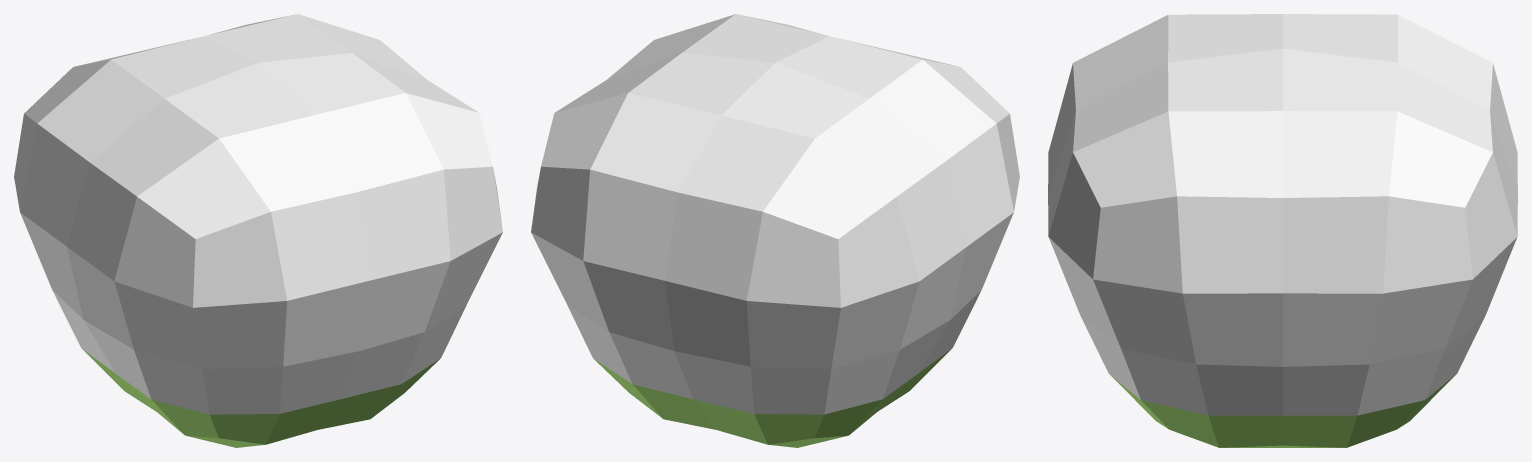
Rendered from Thuja_BushTree_s_Snow_07_LOD.fbx.
3 views of the same model, side by side, from view 1: azimuth 30°, elevation 25°; view 2: azimuth 150°, elevation 25°; view 3: azimuth 270°, elevation 25° (orthographic). The views are drawn at different scales.
Visible parts, largest first — view 1: Thuja_BushTree_s_Snow_07_LOD0; view 2: Thuja_BushTree_s_Snow_07_LOD0; view 3: Thuja_BushTree_s_Snow_07_LOD0.
Boxes of the visible parts, left/top/right/bottom form: Thuja_BushTree_s_Snow_07_LOD0: left=14, top=14, right=502, bottom=447; Thuja_BushTree_s_Snow_07_LOD0: left=531, top=14, right=1019, bottom=447; Thuja_BushTree_s_Snow_07_LOD0: left=1048, top=14, right=1517, bottom=447.
Size of what is drawn, in the model's own units: 197 by 176 by 197.
